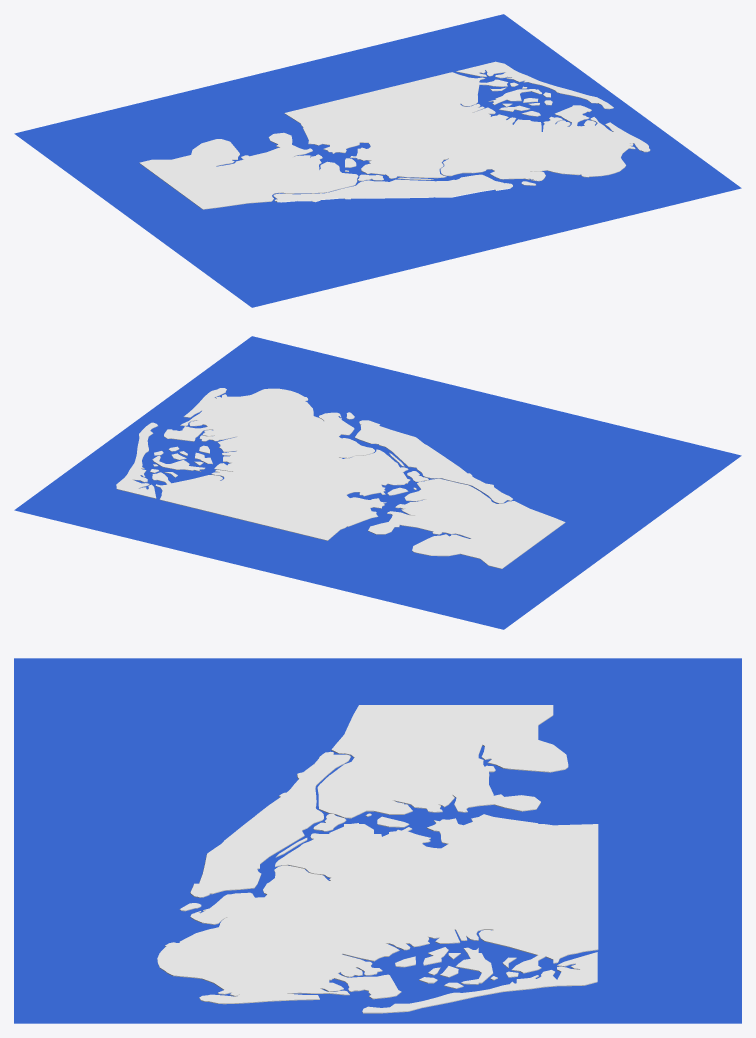
The model's file is subway_map_MAP_ONLY_5.24.glb.
The picture shows the model from 3 angles, top to bottom: view 1: azimuth 30°, elevation 25°; view 2: azimuth 150°, elevation 25°; view 3: azimuth 270°, elevation 25°; orthographic projection. The views are drawn at different scales.
Visible parts, largest first — view 1: WATER, BK_QUEENS, BRONX, MANHATTAN, ROCKAWAY, BROAD_CHANNEL; view 2: WATER, BK_QUEENS, BRONX, MANHATTAN, ROCKAWAY, BROAD_CHANNEL; view 3: WATER, BK_QUEENS, BRONX, MANHATTAN, ROCKAWAY, BROAD_CHANNEL.
Part boxes in pixels (<box>): WATER: <box>14,14,741,307</box>; BK_QUEENS: <box>284,72,650,181</box>; BRONX: <box>139,132,358,209</box>; MANHATTAN: <box>273,174,512,202</box>; ROCKAWAY: <box>456,61,613,109</box>; BROAD_CHANNEL: <box>488,82,552,116</box>; WATER: <box>14,336,741,629</box>; BK_QUEENS: <box>152,388,410,540</box>; BRONX: <box>368,478,565,568</box>; MANHATTAN: <box>354,420,512,503</box>; ROCKAWAY: <box>116,422,157,498</box>; BROAD_CHANNEL: <box>150,445,212,477</box>; WATER: <box>14,658,741,1023</box>; BK_QUEENS: <box>157,814,598,1004</box>; BRONX: <box>317,705,568,818</box>; MANHATTAN: <box>190,751,350,897</box>; ROCKAWAY: <box>362,952,597,1013</box>; BROAD_CHANNEL: <box>395,947,518,988</box>.
Bounding box in the file's own units: 119 × 0.9433 × 100.
